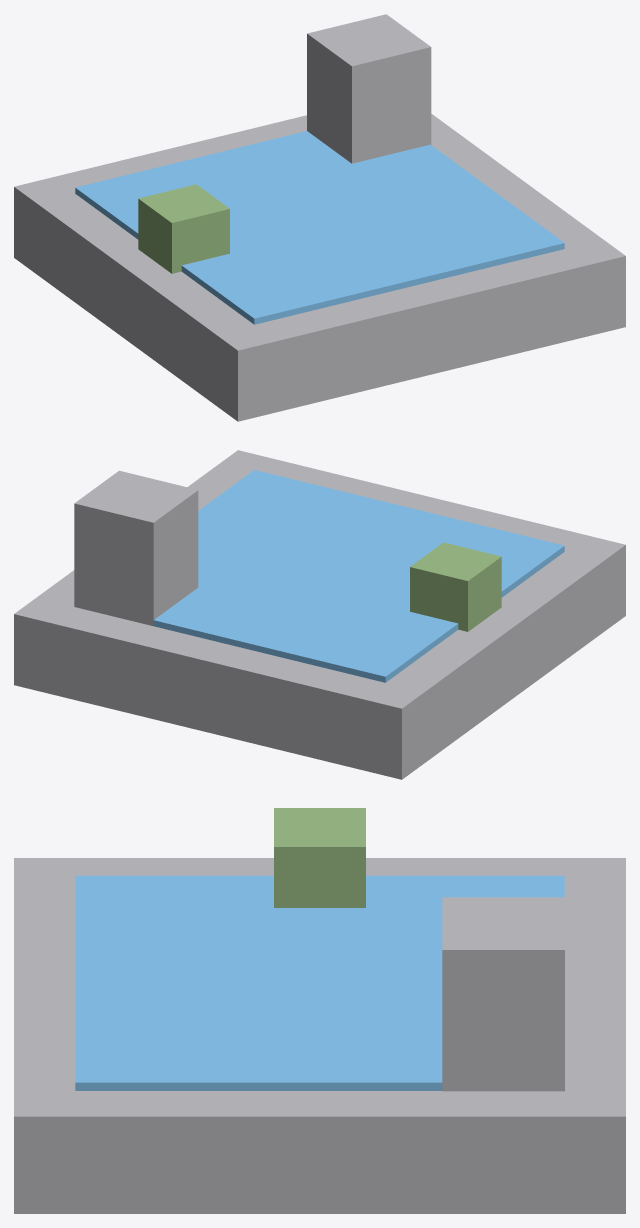
Rendered from Prop_Water_AMF_SpringBasin_V1.glb.
The picture shows the model from 3 angles, top to bottom: view 1: azimuth 30°, elevation 25°; view 2: azimuth 150°, elevation 25°; view 3: azimuth 270°, elevation 25°; orthographic projection. The views are drawn at different scales.
Parts seen in each view (by area): view 1: Prop_Water_AMF_SpringBasin_V1; view 2: Prop_Water_AMF_SpringBasin_V1; view 3: Prop_Water_AMF_SpringBasin_V1.
Boxes of the visible parts, x1,y1,x2,y2 form: Prop_Water_AMF_SpringBasin_V1: (14, 14, 625, 421); Prop_Water_AMF_SpringBasin_V1: (14, 450, 625, 779); Prop_Water_AMF_SpringBasin_V1: (14, 808, 625, 1213).
Size of the model in its own units: 2 by 0.8593 by 2.
